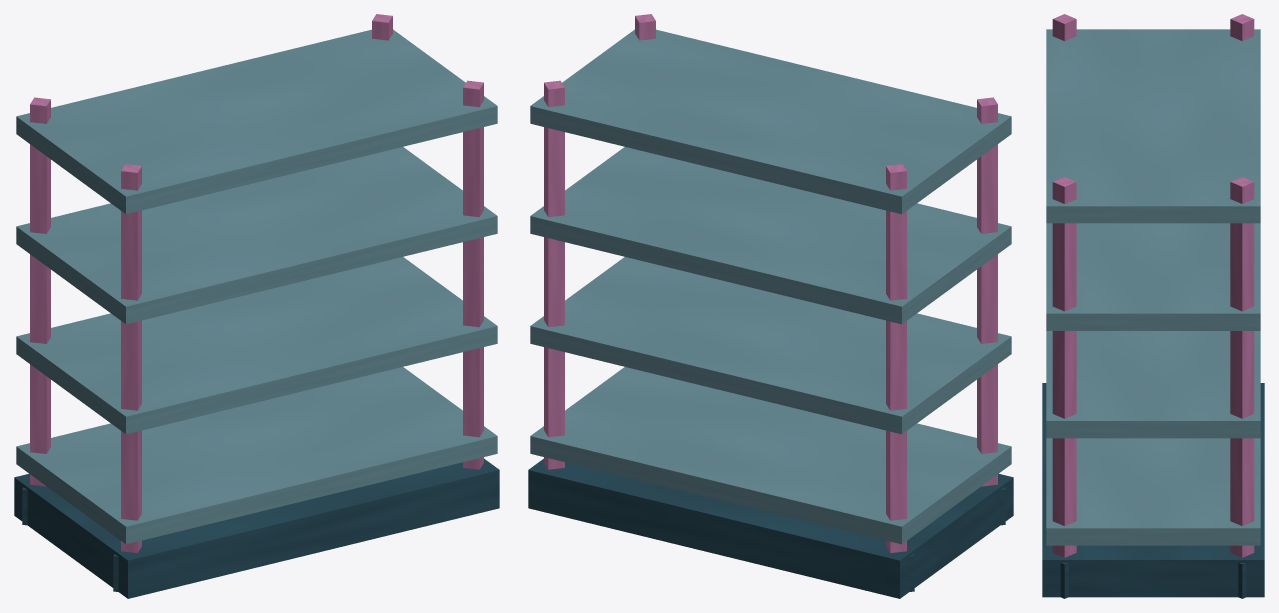
File: atlas100-s062-a06.lod2.glb
3 views of the same model, side by side, from view 1: azimuth 30°, elevation 25°; view 2: azimuth 150°, elevation 25°; view 3: azimuth 270°, elevation 25° (orthographic). The views are drawn at different scales.
Parts seen in each view (by area): view 1: atlas100-s062-a06:part-014, atlas100-s062-a06:part-012, atlas100-s062-a06:part-013, atlas100-s062-a06:part-011, atlas100-s062-a06:part-000, atlas100-s062-a06:part-005, atlas100-s062-a06:part-009, atlas100-s062-a06:part-003; view 2: atlas100-s062-a06:part-014, atlas100-s062-a06:part-012, atlas100-s062-a06:part-013, atlas100-s062-a06:part-011, atlas100-s062-a06:part-000, atlas100-s062-a06:part-003, atlas100-s062-a06:part-007, atlas100-s062-a06:part-005; view 3: atlas100-s062-a06:part-014, atlas100-s062-a06:part-012, atlas100-s062-a06:part-011, atlas100-s062-a06:part-013, atlas100-s062-a06:part-000, atlas100-s062-a06:part-007, atlas100-s062-a06:part-009, atlas100-s062-a06:part-003, atlas100-s062-a06:part-005, atlas100-s062-a06:part-008, atlas100-s062-a06:part-010.
Boxes of the visible parts, <box> form: atlas100-s062-a06:part-014: <box>16,29,497,214</box>; atlas100-s062-a06:part-012: <box>16,257,497,434</box>; atlas100-s062-a06:part-013: <box>16,147,497,324</box>; atlas100-s062-a06:part-011: <box>16,367,497,544</box>; atlas100-s062-a06:part-000: <box>14,458,499,598</box>; atlas100-s062-a06:part-005: <box>121,164,141,552</box>; atlas100-s062-a06:part-009: <box>463,80,483,469</box>; atlas100-s062-a06:part-003: <box>30,97,50,486</box>; atlas100-s062-a06:part-014: <box>530,29,1011,214</box>; atlas100-s062-a06:part-012: <box>530,257,1011,434</box>; atlas100-s062-a06:part-013: <box>530,147,1011,324</box>; atlas100-s062-a06:part-011: <box>530,367,1011,544</box>; atlas100-s062-a06:part-000: <box>528,458,1013,598</box>; atlas100-s062-a06:part-003: <box>886,164,906,552</box>; atlas100-s062-a06:part-007: <box>544,80,564,469</box>; atlas100-s062-a06:part-005: <box>977,97,997,486</box>; atlas100-s062-a06:part-014: <box>1046,29,1260,223</box>; atlas100-s062-a06:part-012: <box>1046,331,1260,438</box>; atlas100-s062-a06:part-011: <box>1046,438,1260,545</box>; atlas100-s062-a06:part-013: <box>1046,223,1260,330</box>; atlas100-s062-a06:part-000: <box>1042,383,1264,597</box>; atlas100-s062-a06:part-007: <box>1230,177,1254,557</box>; atlas100-s062-a06:part-009: <box>1052,177,1076,557</box>; atlas100-s062-a06:part-003: <box>1230,14,1254,41</box>; atlas100-s062-a06:part-005: <box>1052,14,1076,41</box>; atlas100-s062-a06:part-008: <box>1238,563,1246,598</box>; atlas100-s062-a06:part-010: <box>1060,563,1068,598</box>.
Size of the model in its own units: 2.69 by 2.84 by 1.4.
3 materials, 3 textured.
